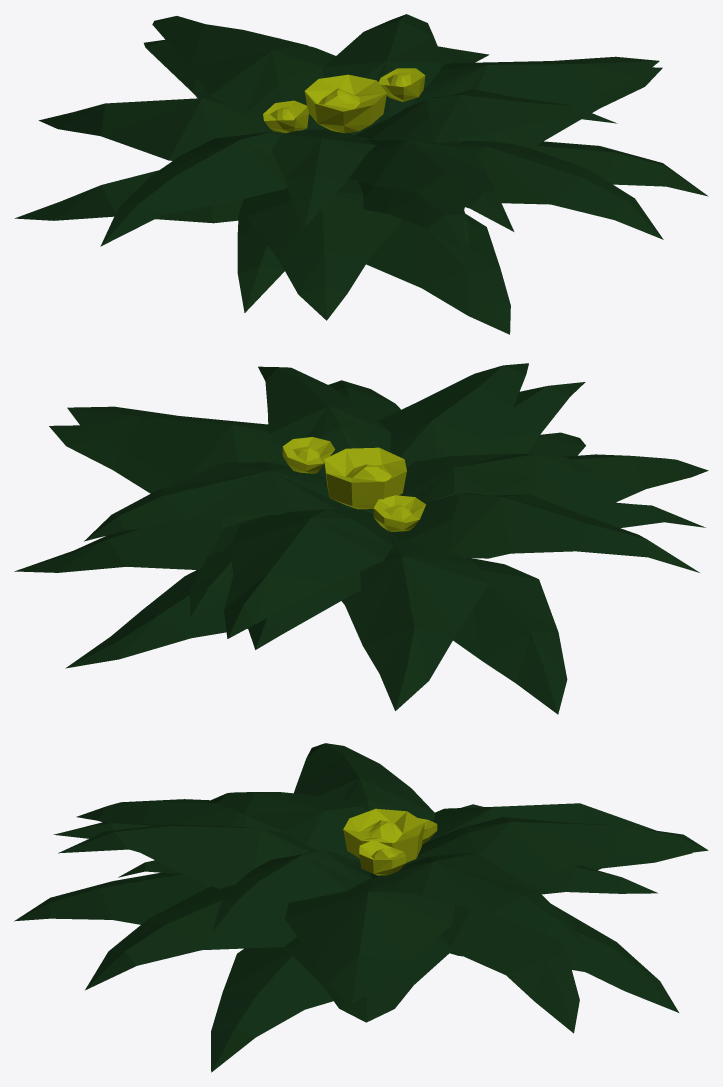
Rendered from SM_Environment_Fern2_5M.FBX.
The picture shows the model from 3 angles, top to bottom: view 1: azimuth 30°, elevation 25°; view 2: azimuth 150°, elevation 25°; view 3: azimuth 270°, elevation 25°; orthographic projection. The views are drawn at different scales.
Visible parts, largest first — view 1: SM_Environment_Leaf024, SM_Environment_Leaf023, SM_Environment_Leaf021, SM_Environment_Leaf3, SM_Environment_Leaf022, SM_Environment_Leaf019, SM_Environment_Leaf018, SM_Environment_Leaf017, SM_Environment_SmLeaf013, SM_Environment_SmLeaf014, SM_Environment_SmLeaf015, SM_Environment_Leaf6 (+9 smaller); view 2: SM_Environment_Leaf022, SM_Environment_Leaf023, SM_Environment_Leaf021, SM_Environment_Leaf6, SM_Environment_SmLeaf015, SM_Environment_Leaf018, SM_Environment_Leaf017, SM_Environment_SmLeaf013, SM_Environment_Leaf025, SM_Environment_Leaf024, SM_Environment_SmLeaf014, SM_Environment_Leaf4 (+10 smaller); view 3: SM_Environment_Leaf018, SM_Environment_Leaf023, SM_Environment_Leaf019, SM_Environment_Leaf025, SM_Environment_Leaf2, SM_Environment_SmLeaf015, SM_Environment_Leaf017, SM_Environment_SmLeaf013, SM_Environment_Leaf021, SM_Environment_Leaf3, SM_Environment_SmLeaf014, SM_Environment_Leaf4 (+8 smaller).
Boxes of the visible parts, <box> form: SM_Environment_Leaf024: <box>246,178,403,320</box>; SM_Environment_Leaf023: <box>152,16,355,135</box>; SM_Environment_Leaf021: <box>100,131,287,246</box>; SM_Environment_Leaf3: <box>366,214,510,334</box>; SM_Environment_Leaf022: <box>38,98,272,160</box>; SM_Environment_Leaf019: <box>385,140,663,239</box>; SM_Environment_Leaf018: <box>362,56,659,142</box>; SM_Environment_Leaf017: <box>349,139,514,231</box>; SM_Environment_SmLeaf013: <box>355,89,617,142</box>; SM_Environment_SmLeaf014: <box>271,129,376,226</box>; SM_Environment_SmLeaf015: <box>323,14,444,127</box>; SM_Environment_Leaf6: <box>14,170,243,223</box>; SM_Environment_Leaf022: <box>341,532,488,710</box>; SM_Environment_Leaf023: <box>224,509,393,638</box>; SM_Environment_Leaf021: <box>388,493,699,572</box>; SM_Environment_Leaf6: <box>453,558,567,714</box>; SM_Environment_SmLeaf015: <box>84,462,351,541</box>; SM_Environment_Leaf018: <box>67,406,288,482</box>; SM_Environment_Leaf017: <box>363,363,528,514</box>; SM_Environment_SmLeaf013: <box>258,366,390,477</box>; SM_Environment_Leaf025: <box>14,510,304,572</box>; SM_Environment_Leaf024: <box>458,454,708,515</box>; SM_Environment_SmLeaf014: <box>373,453,594,511</box>; SM_Environment_Leaf4: <box>65,570,247,668</box>; SM_Environment_Leaf018: <box>285,871,455,1002</box>; SM_Environment_Leaf023: <box>404,817,708,880</box>; SM_Environment_Leaf019: <box>85,885,297,990</box>; SM_Environment_Leaf025: <box>440,905,579,1033</box>; SM_Environment_Leaf2: <box>211,947,333,1072</box>; SM_Environment_SmLeaf015: <box>370,853,586,946</box>; SM_Environment_Leaf017: <box>58,824,320,878</box>; SM_Environment_SmLeaf013: <box>212,850,371,932</box>; SM_Environment_Leaf021: <box>294,743,435,860</box>; SM_Environment_Leaf3: <box>14,872,211,924</box>; SM_Environment_SmLeaf014: <box>207,792,367,859</box>; SM_Environment_Leaf4: <box>450,904,678,1012</box>.
Size of the model in its own units: 30.58 by 6.28 by 30.94.
